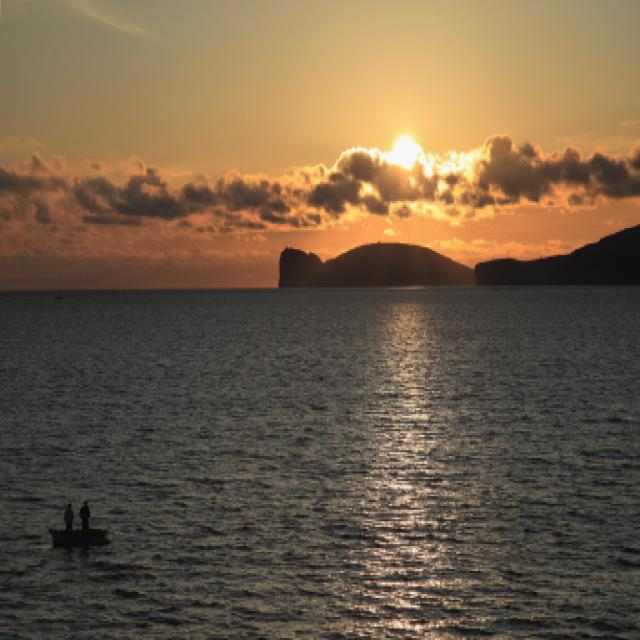Boat: (51, 490, 110, 553)
